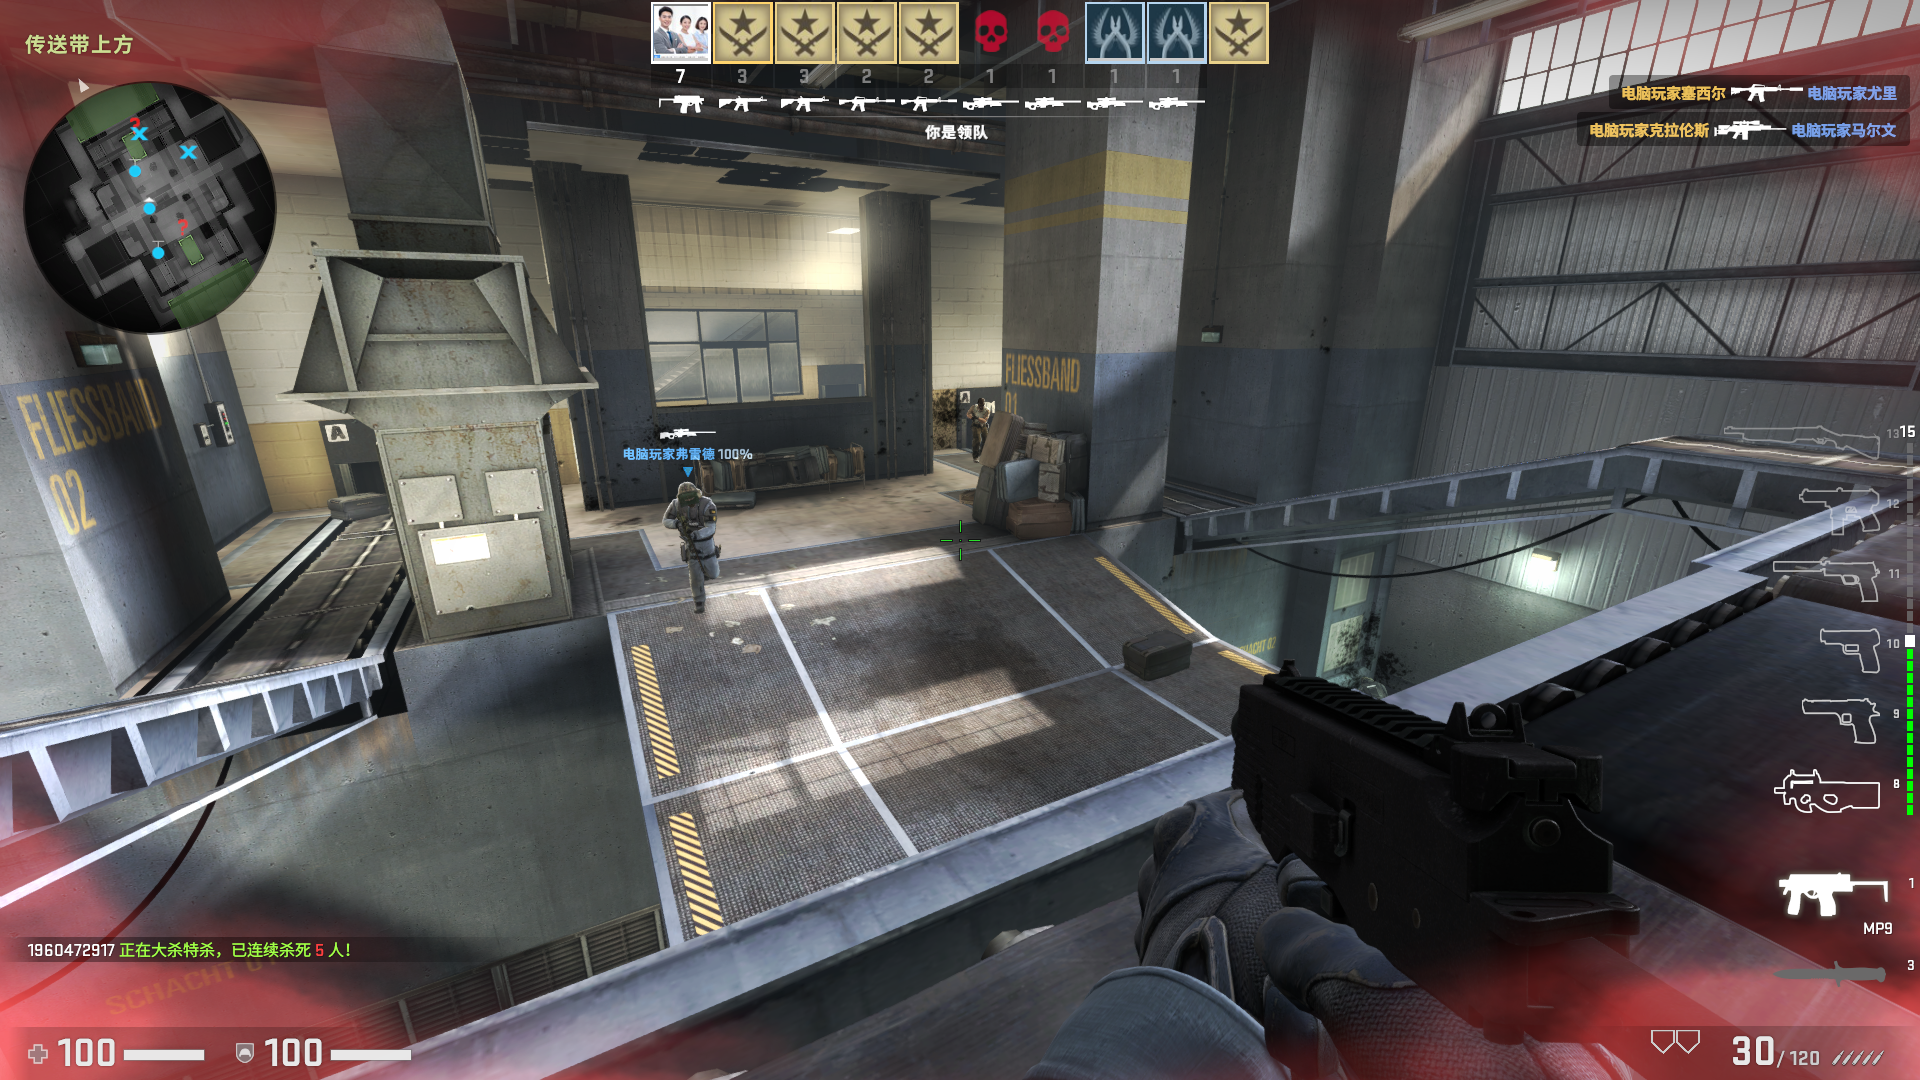person: (660, 481, 730, 622), (963, 399, 992, 463)
